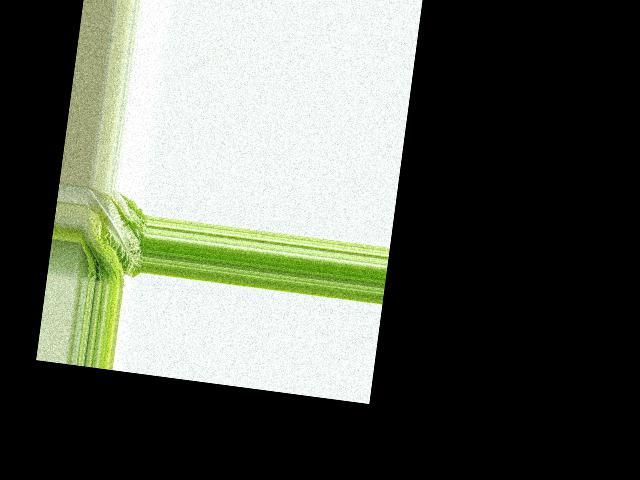lettuce: (75, 186, 150, 289)
